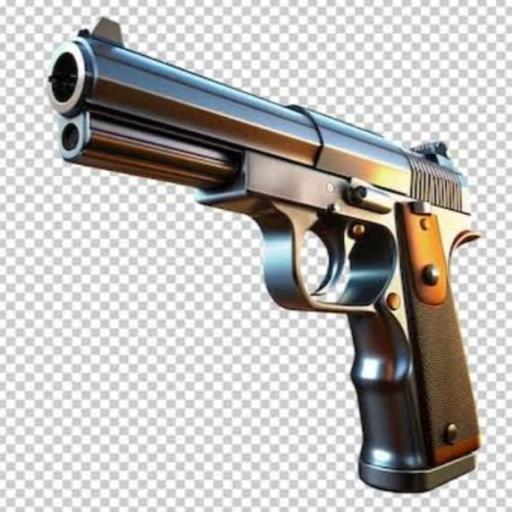Gun: (47, 19, 478, 490)
